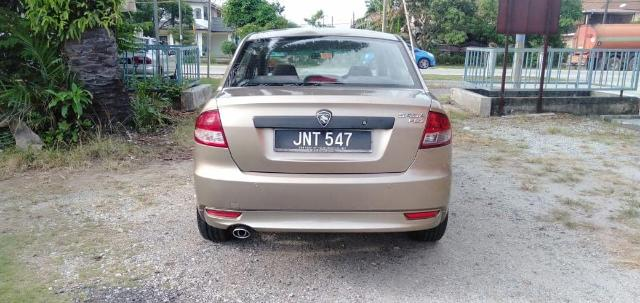License_Plate: (283, 131, 362, 154)
